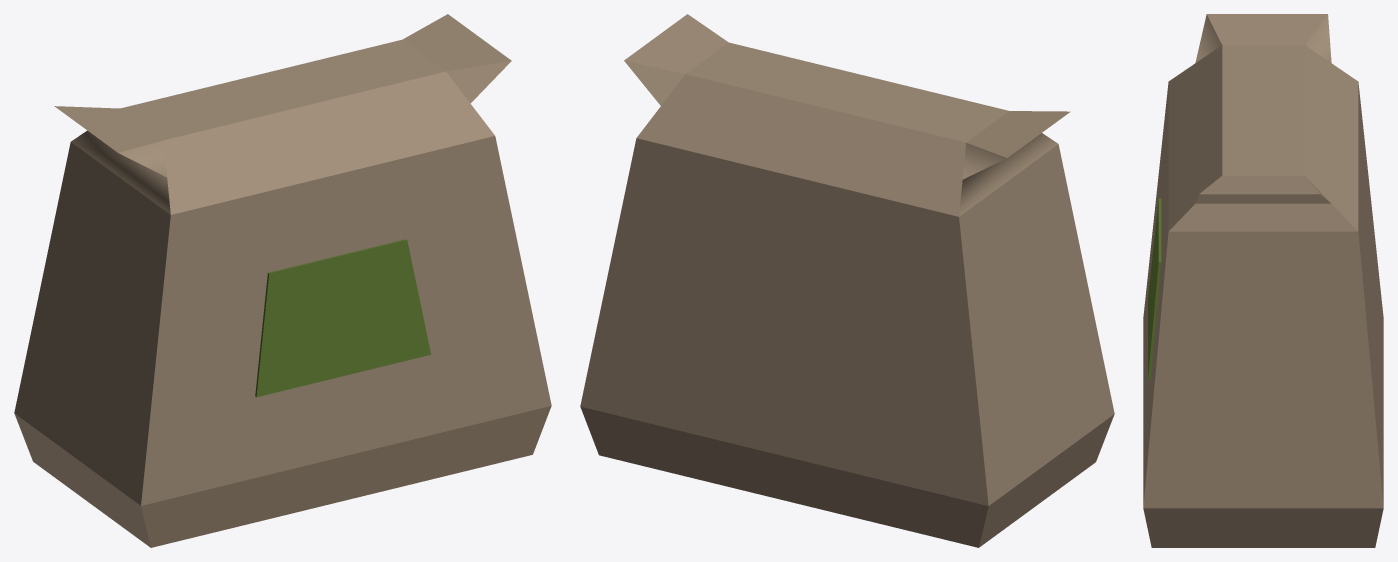
The model's file is Grain_1.fbx.
3 renders of one model, left to right at view 1: azimuth 30°, elevation 25°; view 2: azimuth 150°, elevation 25°; view 3: azimuth 270°, elevation 25°, orthographic. The views are drawn at different scales.
Parts seen in each view (by area): view 1: Grain_1; view 2: Grain_1; view 3: Grain_1.
Part boxes in pixels (x1,y1,x2,y2): Grain_1: (14, 14, 551, 547); Grain_1: (580, 14, 1114, 547); Grain_1: (1143, 14, 1383, 547).
Bounding box in the file's own units: 31.81 × 27.74 × 17.
